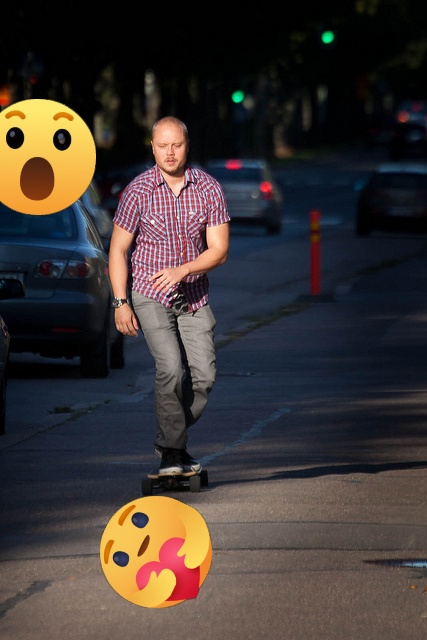care: (100, 496, 212, 608)
wow: (0, 99, 96, 215)
